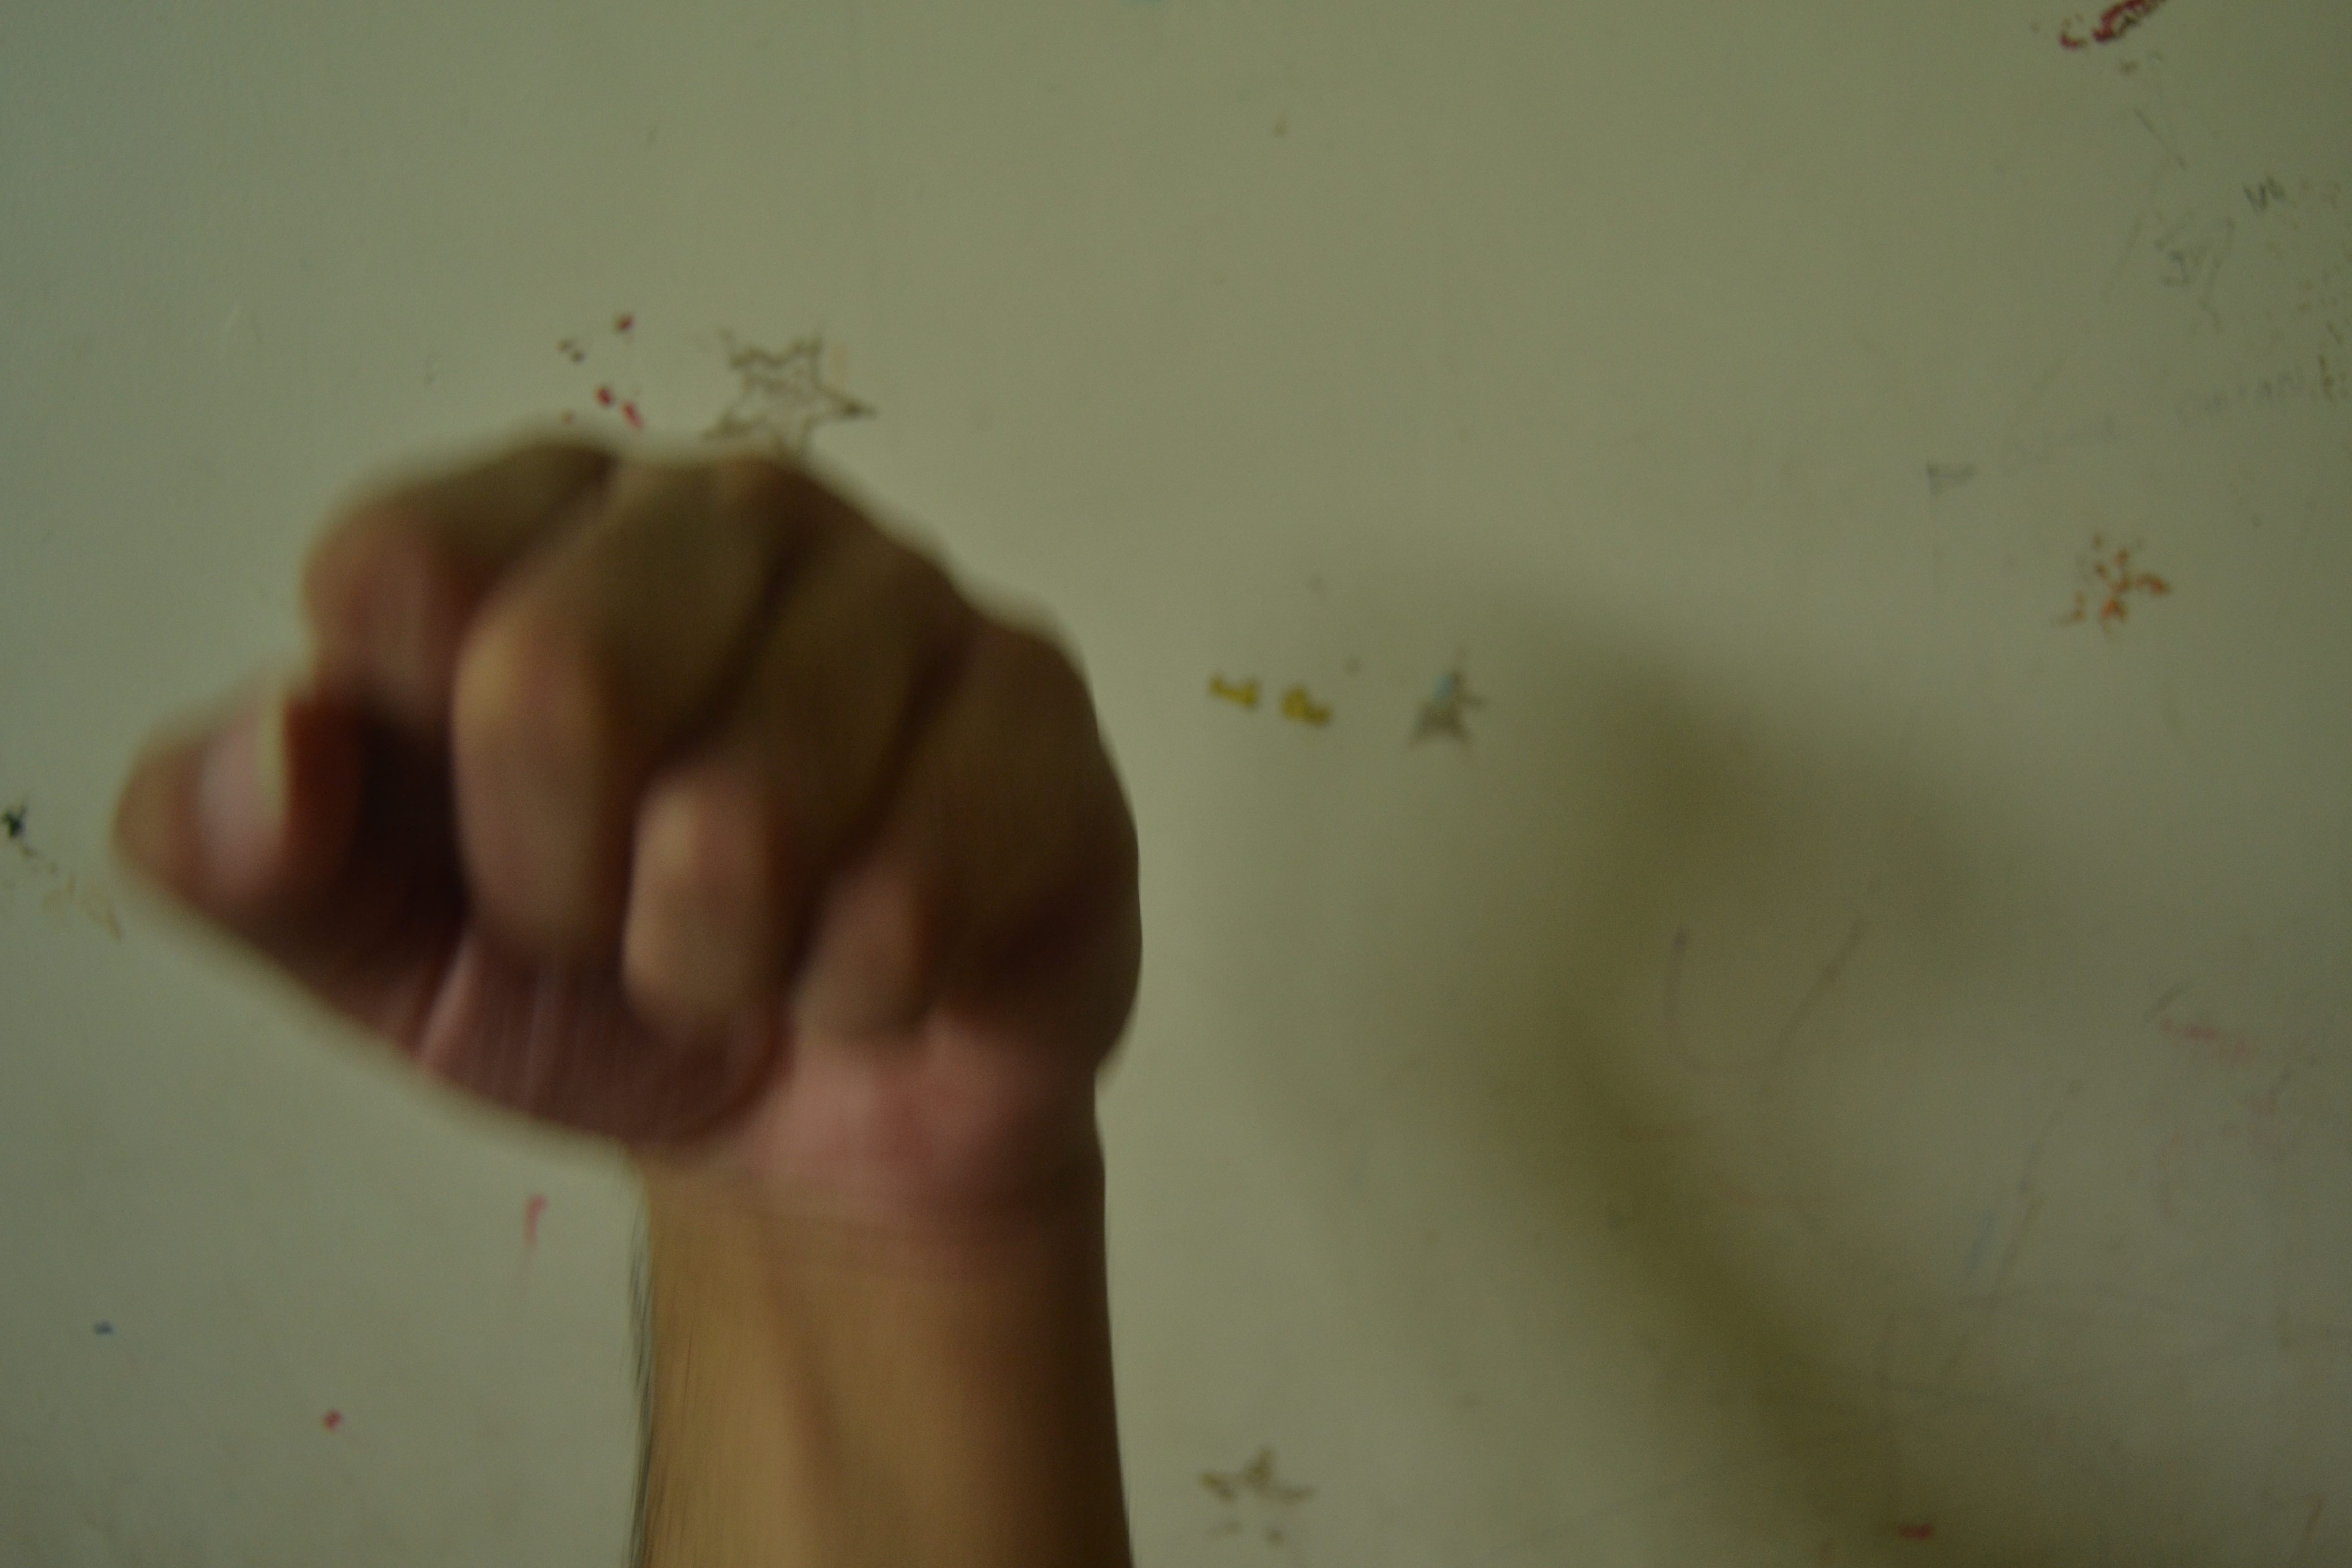click: (96, 390, 1249, 1316)
